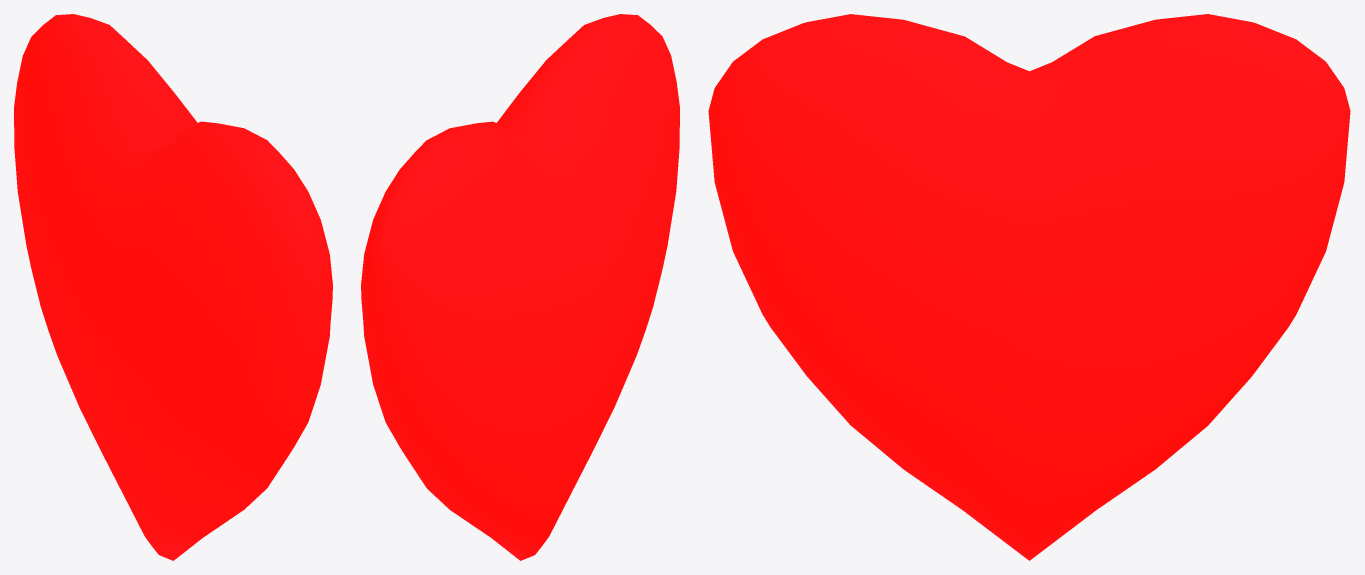
The model's file is heart.fbx.
The picture shows the model from 3 angles, left to right: view 1: azimuth 30°, elevation 25°; view 2: azimuth 150°, elevation 25°; view 3: azimuth 270°, elevation 25°; orthographic projection. The views are drawn at different scales.
Visible parts, largest first — view 1: Cube; view 2: Cube; view 3: Cube.
Part boxes in pixels (left/top/right/bottom): Cube: left=14, top=14, right=332, bottom=560; Cube: left=361, top=14, right=679, bottom=560; Cube: left=708, top=14, right=1350, bottom=560.
Size of the model in its own units: 61.2 by 188 by 200.
